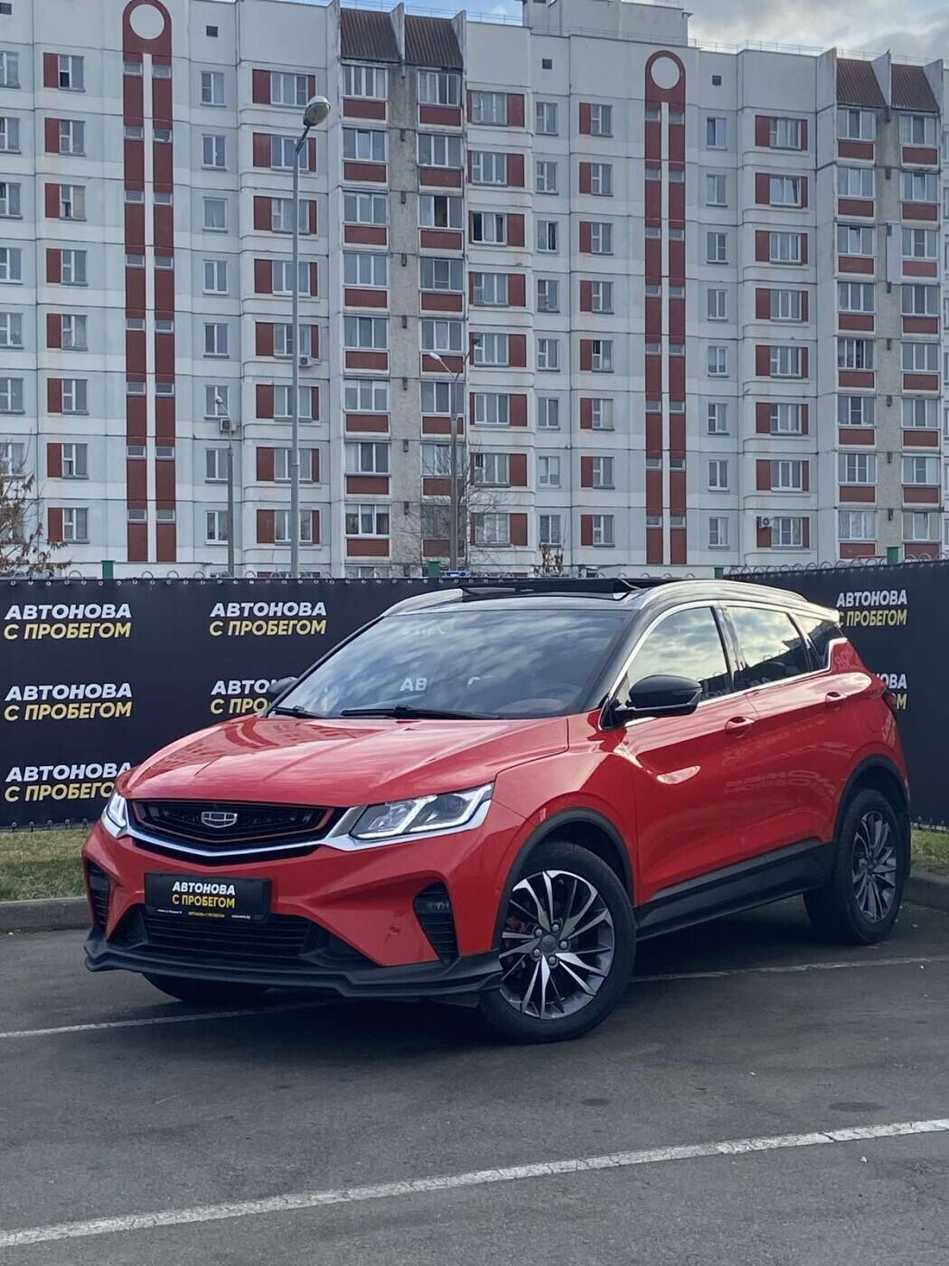Coolray_2019-2023: (76, 572, 920, 1042)
